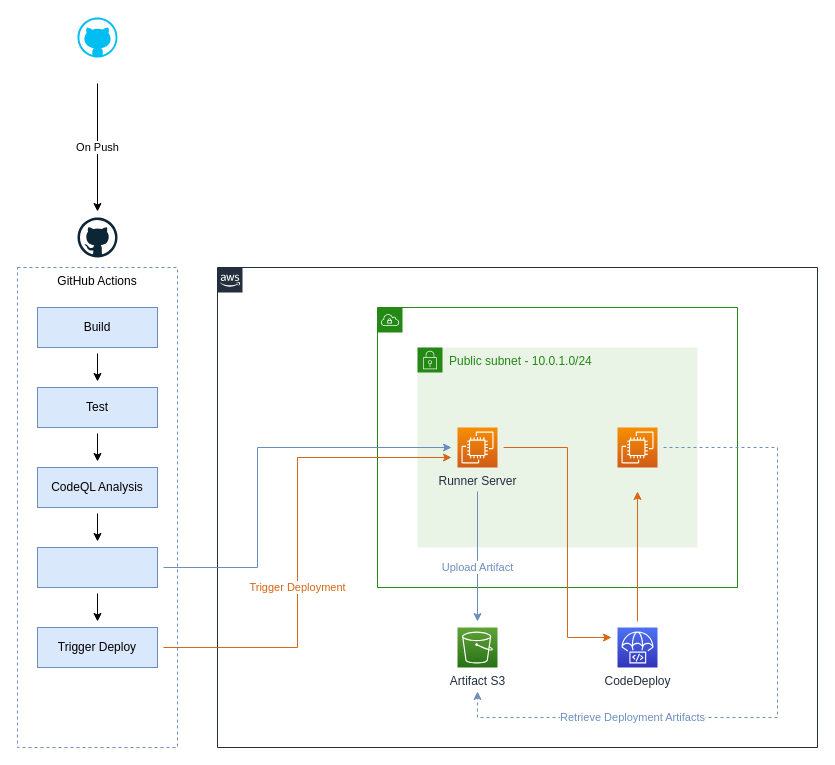
Image size: 835x765. Some labels were removed from this diagram. The shapes that lost their labels are listed below. From the top down, each one's box as (x1, y1, x2, y2) in pixels, then its label:
(77, 17, 117, 57): GitHub
(376, 306, 738, 588): VPC - 10.0.0.0/16
(616, 426, 658, 468): Web Server
(216, 266, 818, 748): AWS Cloud
(36, 546, 158, 588): Upload to S3
